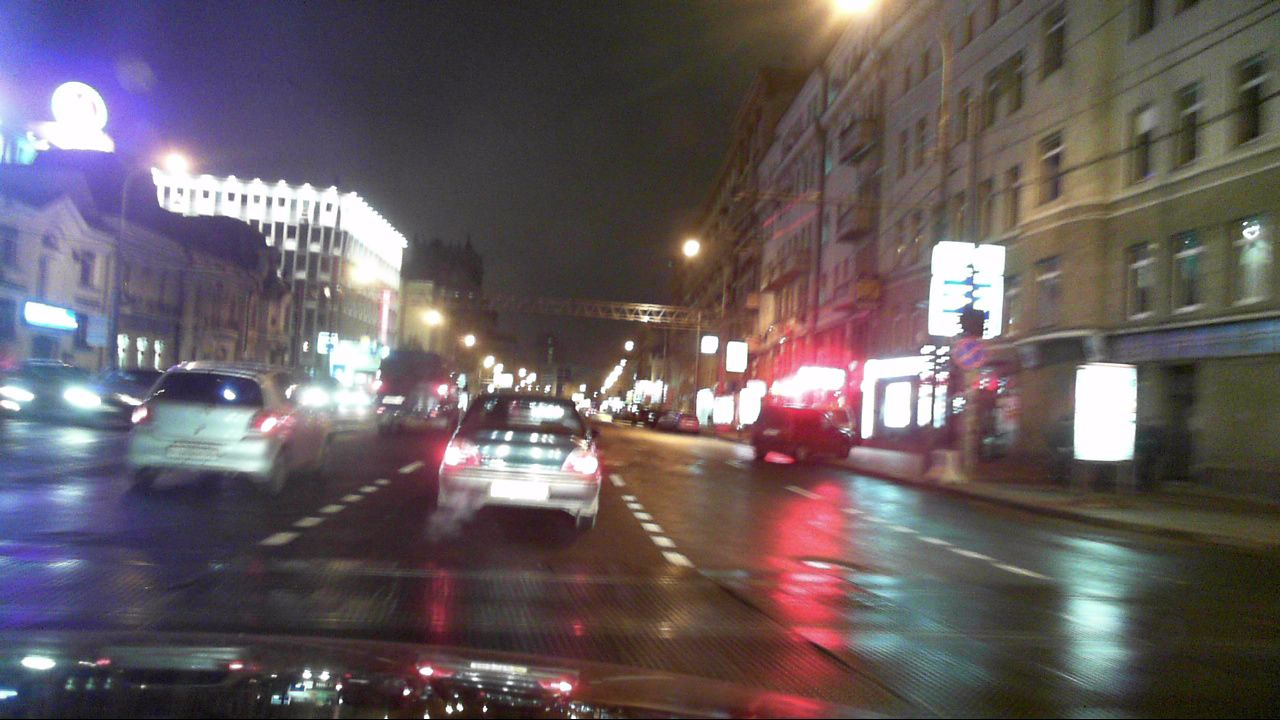No Parking: (951, 337, 982, 369)
